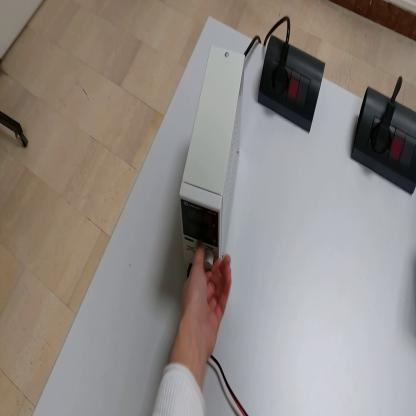hand: (182, 245, 233, 360)
power supply: (180, 49, 246, 275)
socket: (351, 84, 416, 198), (258, 34, 329, 135)
